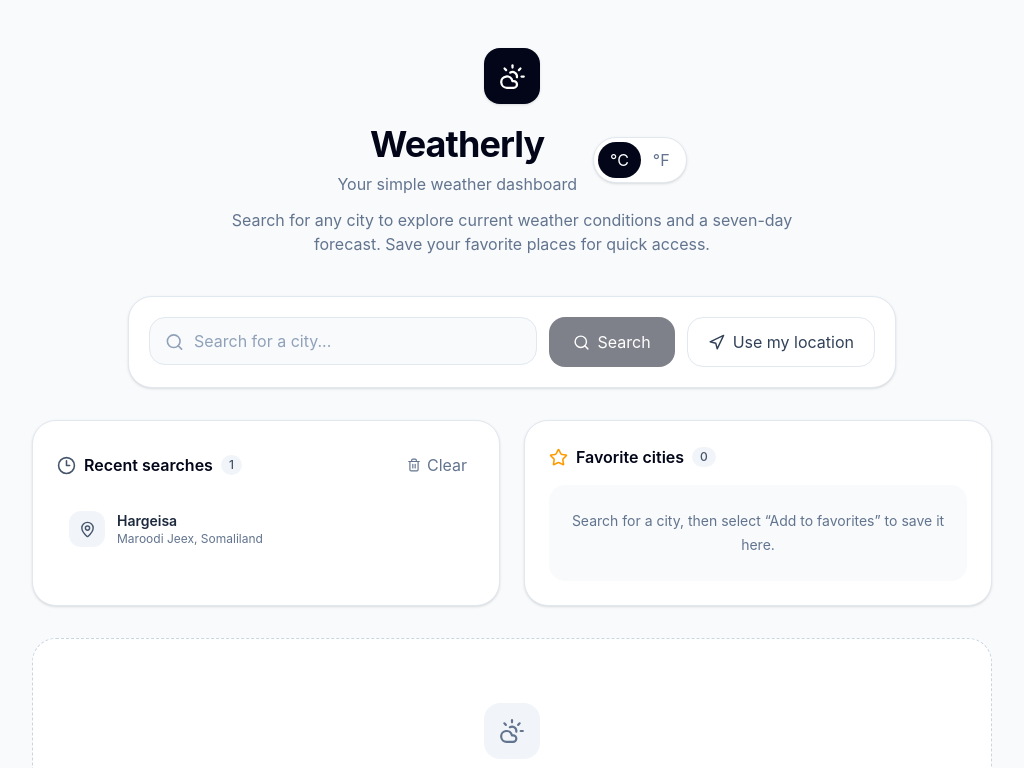
Test: App search history › clears all recent searches when Clear is clicked
The width and height of the screenshot is (1024, 768).
Expected: the button "Hargeisa Maroodi Jeex, Somaliland" is shown, 57,501 -> 475,557
Click the button with aria-label "Clear search history": (437, 465) 399,445 -> 475,485
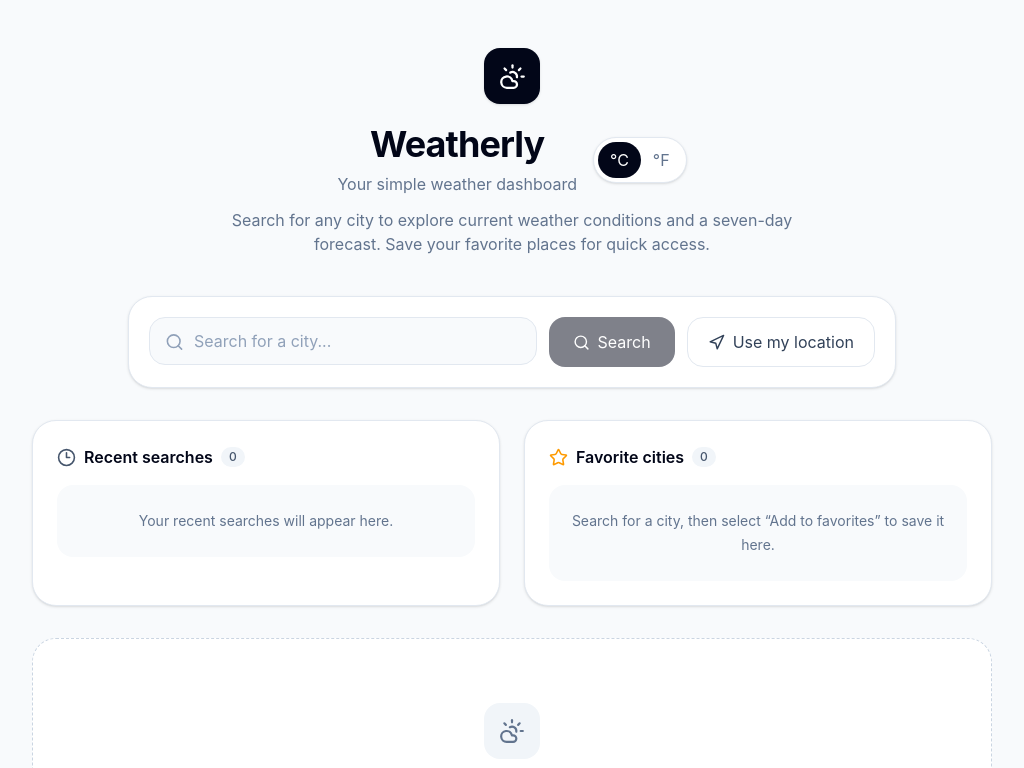
Now the text "Your recent searches will appear here." is shown, box 57,485 -> 475,557
